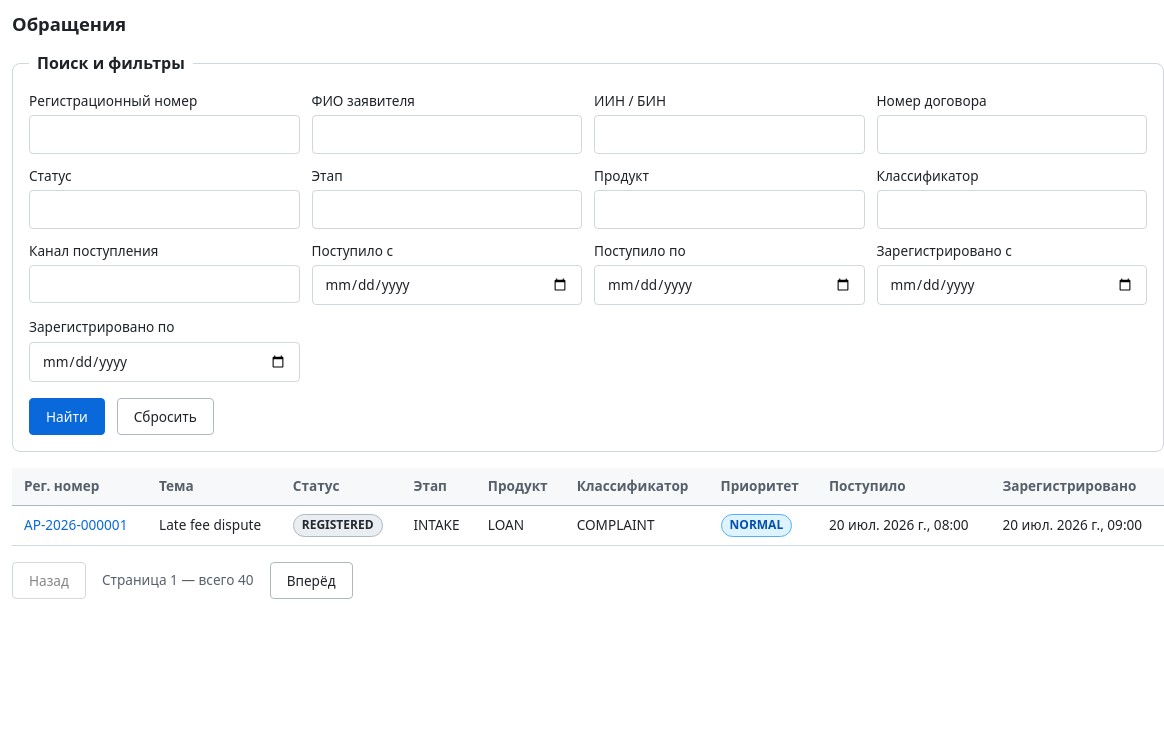
Test: TicketListPage › paginates to the next page when more results exist
Expected: the link "AP-2026-000001" is shown, [24, 515, 127, 534]
Step 1. Click the button "Вперёд" → (311, 580), box [270, 562, 352, 599]
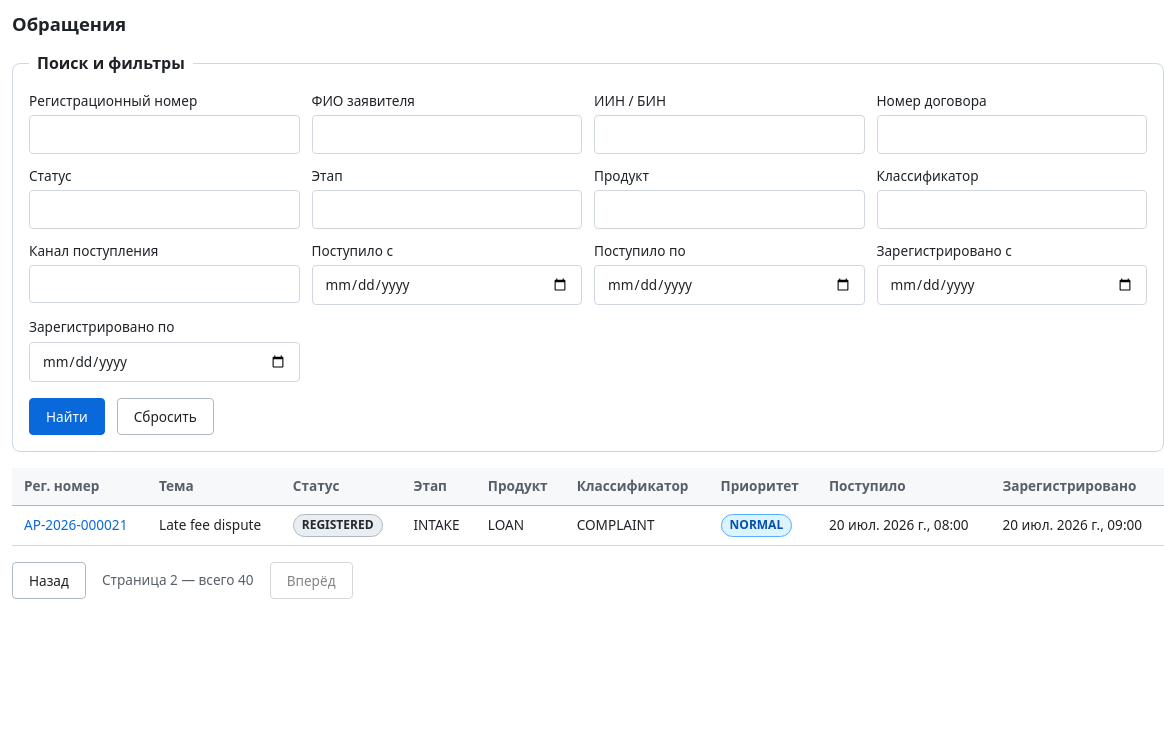
Result: the link "AP-2026-000021" is shown at [24, 515, 127, 534]
